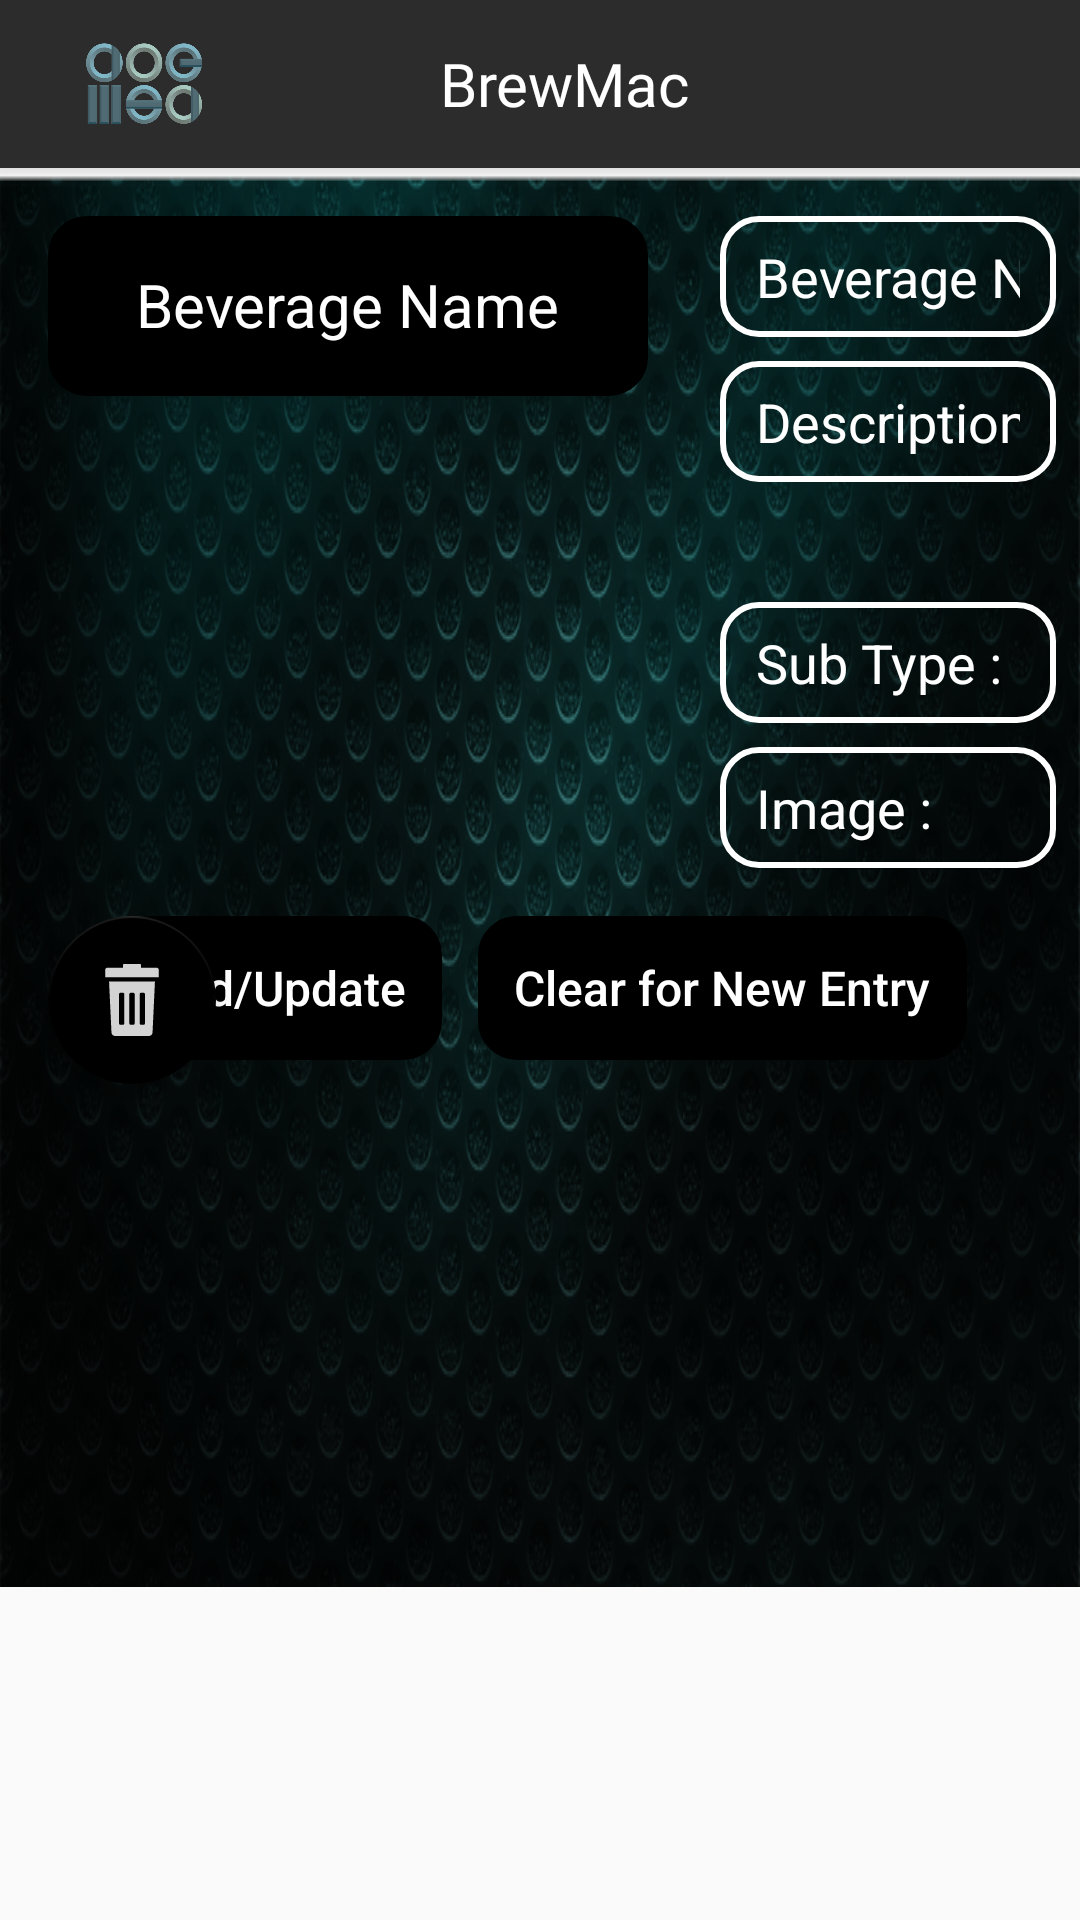

Locate icon controls on the screen. Image size 1080 x 1920, boxes as (x1=x1, y1=y1, x2=x2, y2=y2).
rubbish bin: (x1=105, y1=964, x2=186, y2=1082)
